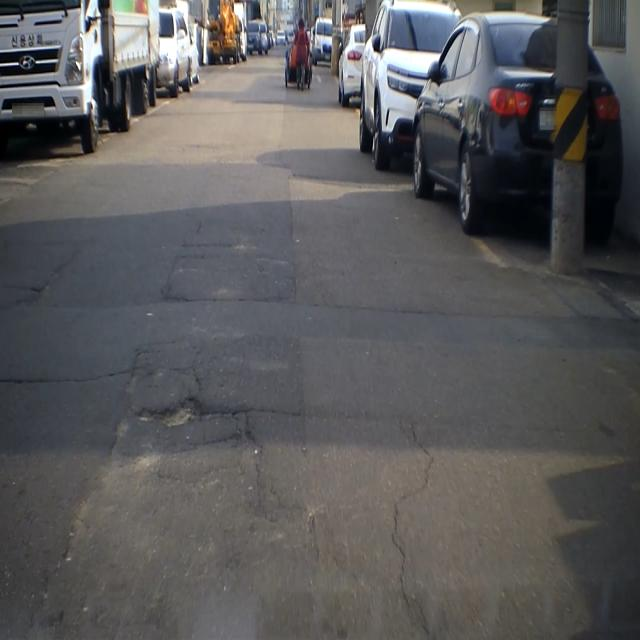Pothole: (126, 384, 253, 448)
